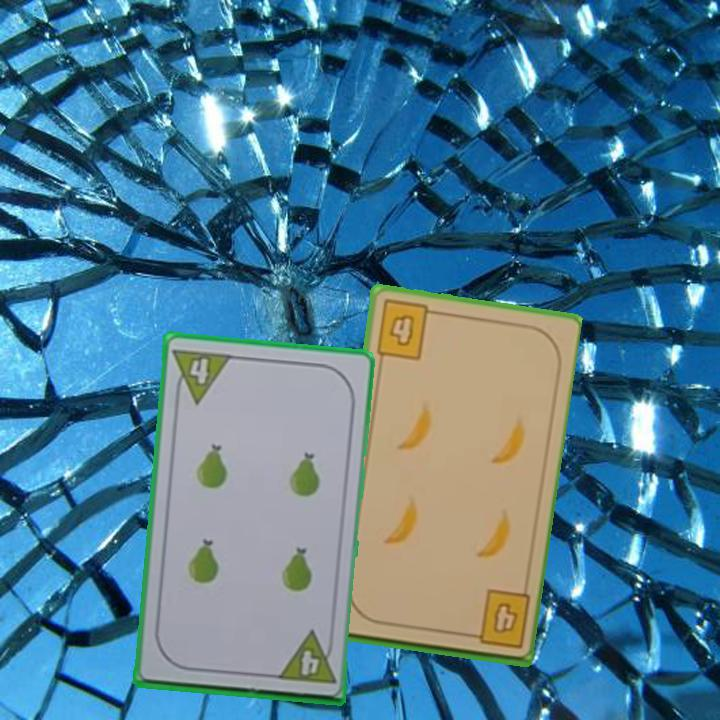4b: (461, 586, 532, 652), (372, 296, 441, 363)
4p: (169, 345, 235, 406), (273, 628, 339, 687)
